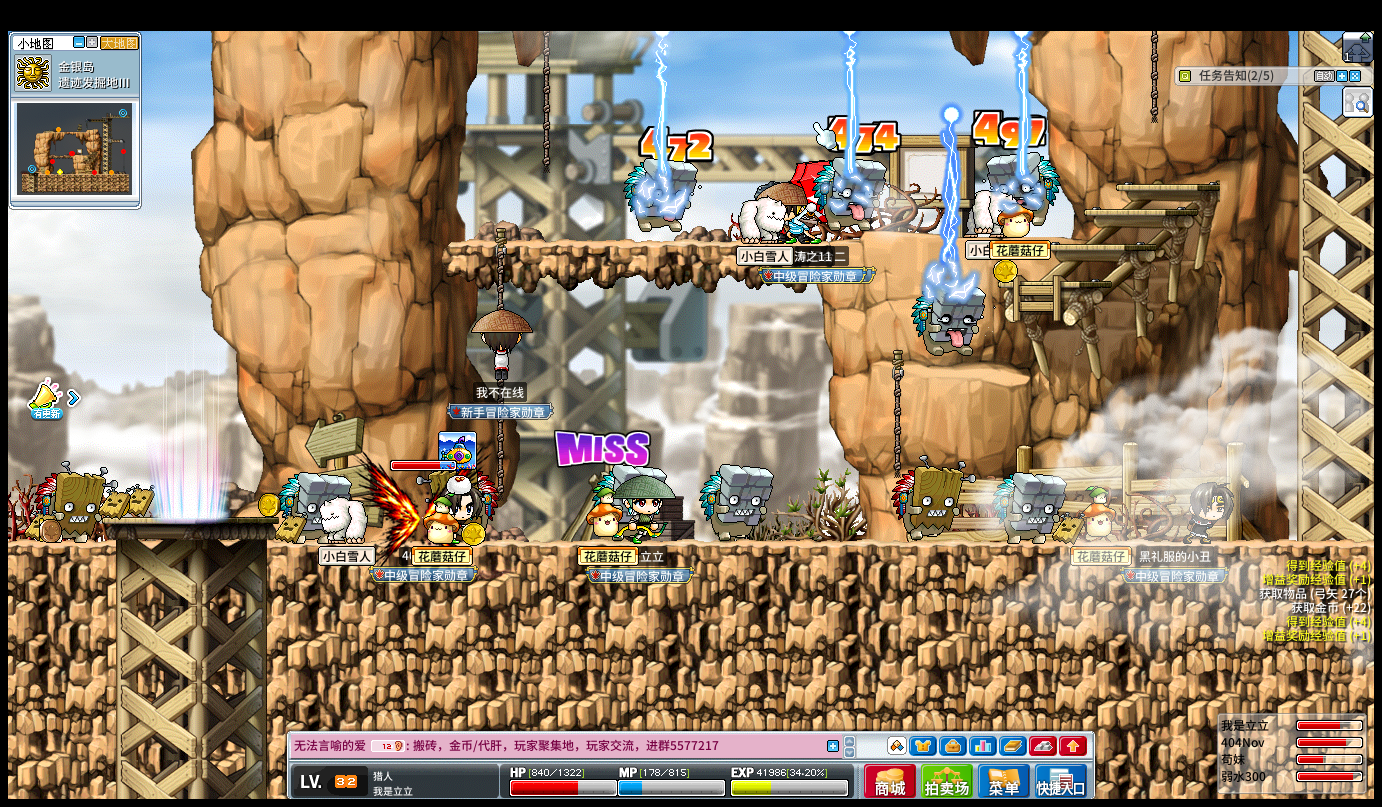floor: (443, 237, 821, 248), (922, 364, 1030, 385), (104, 516, 276, 525), (106, 515, 276, 523), (997, 279, 1110, 291), (948, 231, 1080, 240), (7, 539, 114, 550), (1080, 205, 1197, 215), (1079, 207, 1192, 215), (998, 280, 1109, 287), (1046, 243, 1156, 250), (1115, 184, 1218, 191)
monster: (891, 457, 972, 541), (621, 158, 699, 237), (35, 463, 113, 541), (911, 286, 984, 368), (699, 463, 773, 541), (815, 158, 885, 233), (993, 471, 1065, 543), (984, 150, 1057, 210)
rope: (891, 351, 906, 472), (889, 352, 903, 473), (542, 30, 551, 177), (541, 30, 550, 174), (493, 227, 506, 310), (1148, 29, 1156, 120), (496, 419, 505, 495)
